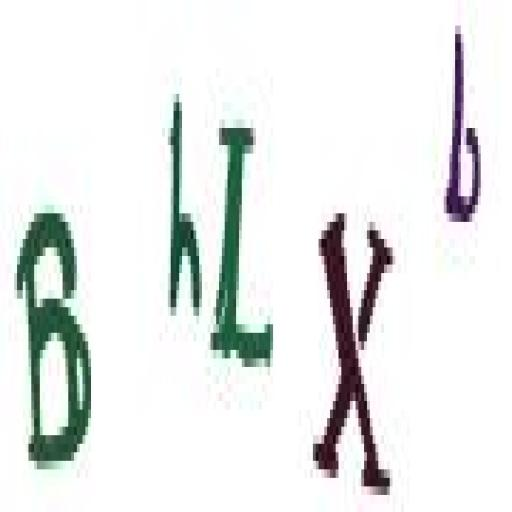B: (5, 192, 103, 484)
L: (208, 89, 282, 389)
X: (303, 194, 398, 512)
b: (443, 28, 485, 238)
h: (161, 77, 206, 337)
